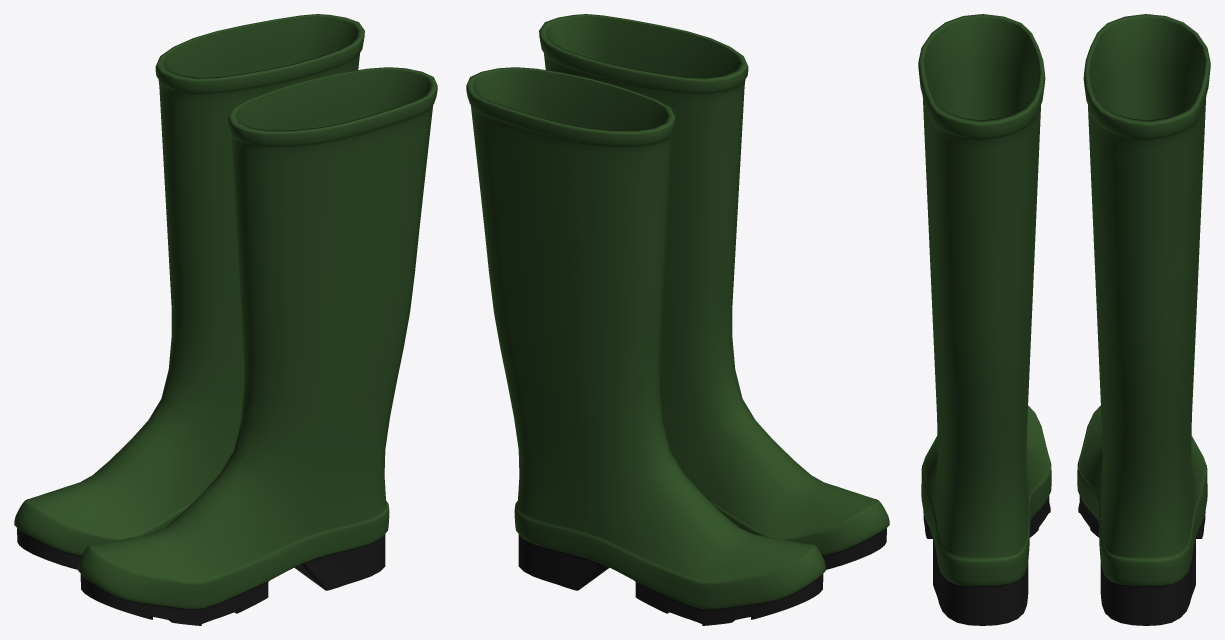
Rendered from boots1.fbx.
The picture shows the model from 3 angles, left to right: view 1: azimuth 30°, elevation 25°; view 2: azimuth 150°, elevation 25°; view 3: azimuth 270°, elevation 25°; orthographic projection. The views are drawn at different scales.
Parts seen in each view (by area): view 1: bota_low1.001, bota_low1; view 2: bota_low1, bota_low1.001; view 3: bota_low1, bota_low1.001.
Part boxes in pixels (x1=…): bota_low1.001: x1=78, y1=67, x2=437, y2=625; bota_low1: x1=14, y1=14, x2=364, y2=569; bota_low1: x1=466, y1=67, x2=825, y2=625; bota_low1.001: x1=539, y1=14, x2=889, y2=569; bota_low1: x1=1077, y1=14, x2=1210, y2=625; bota_low1.001: x1=918, y1=14, x2=1051, y2=625.
Bounding box in the file's own units: 11.23 × 14.53 × 7.24.
